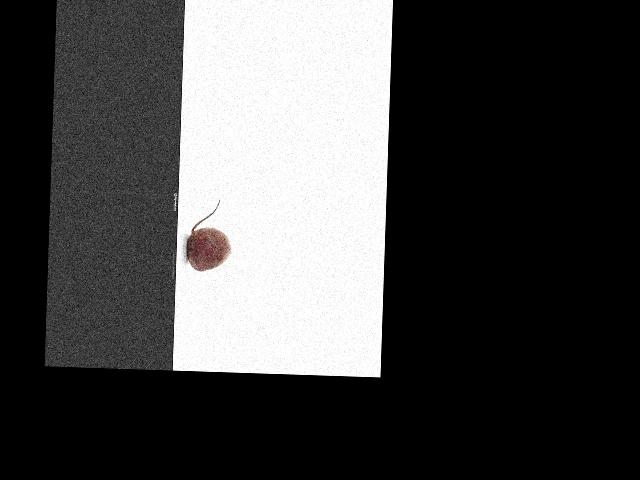beet: (186, 198, 232, 272)
